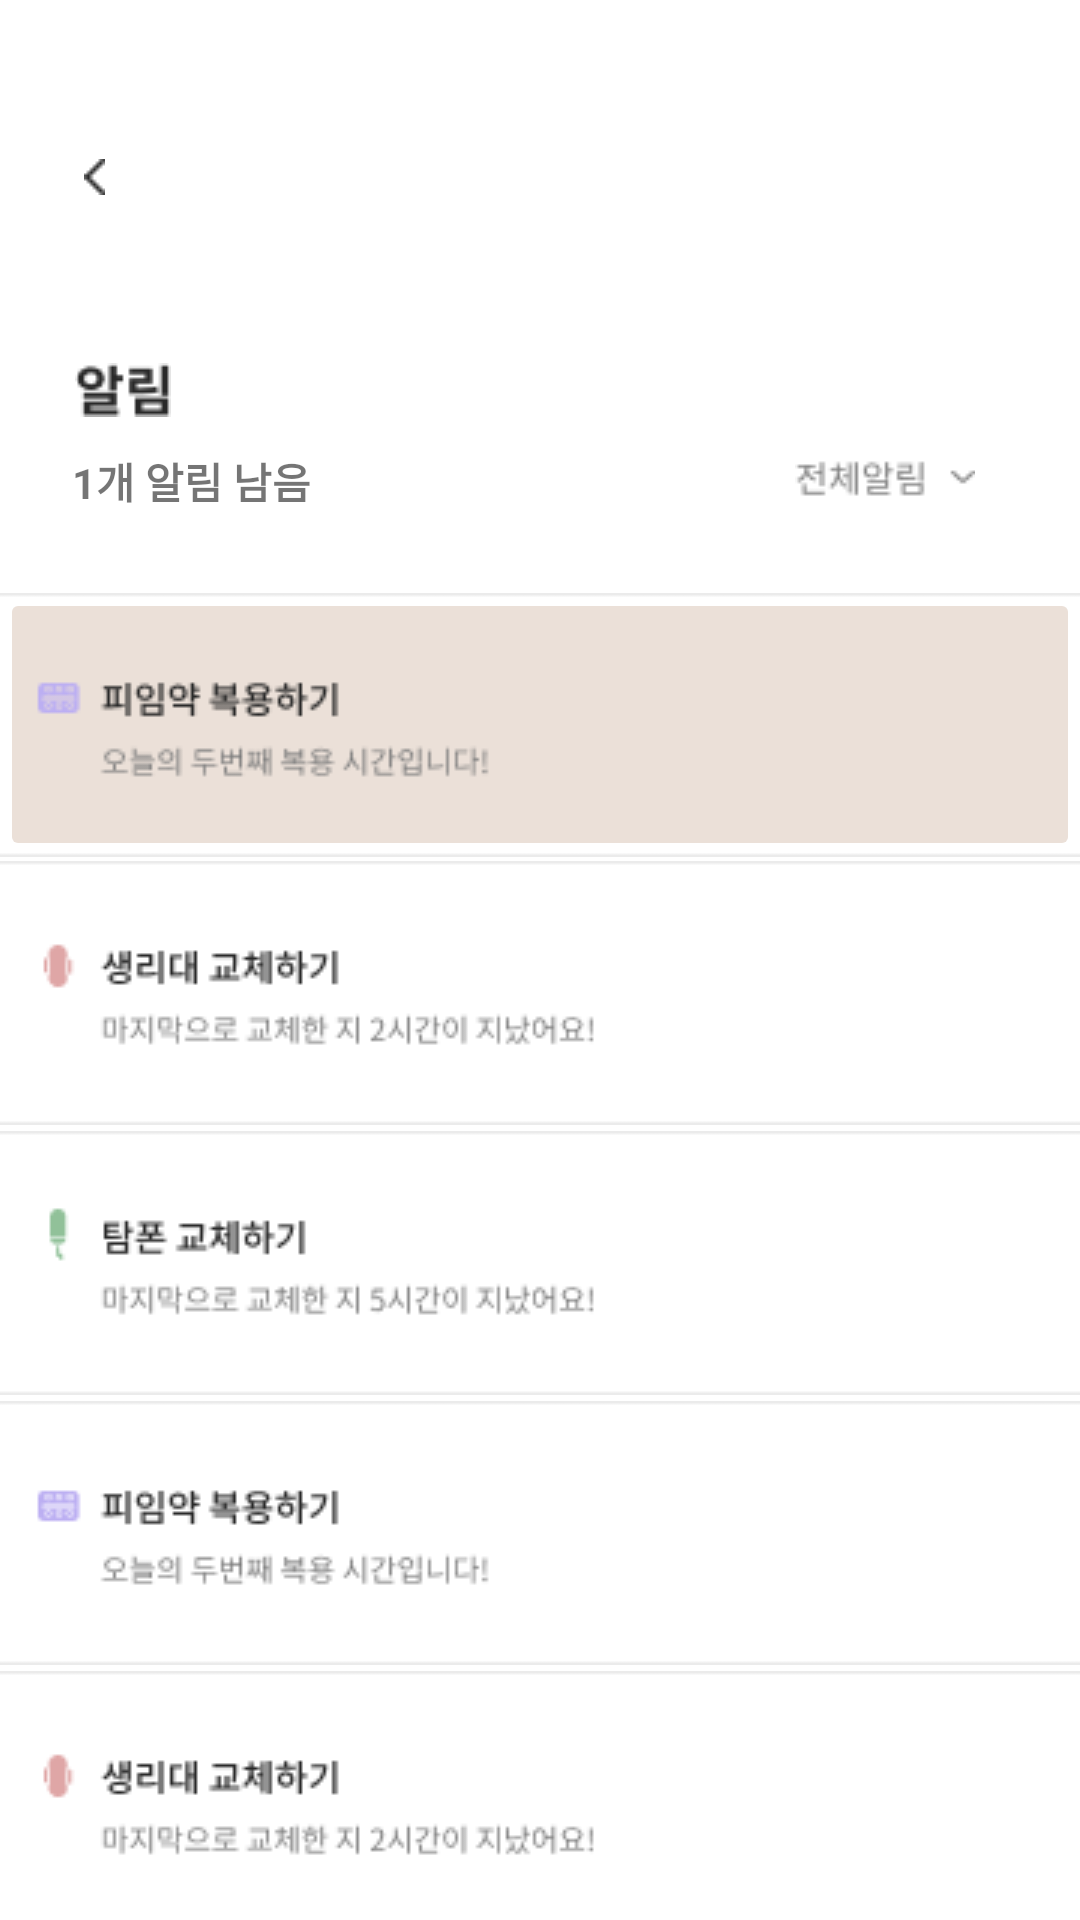

Icon bounding boxes for this 1080*1920 phone screenshot, format (x1, y1, x2, y2):
back: (84, 159, 105, 195)
